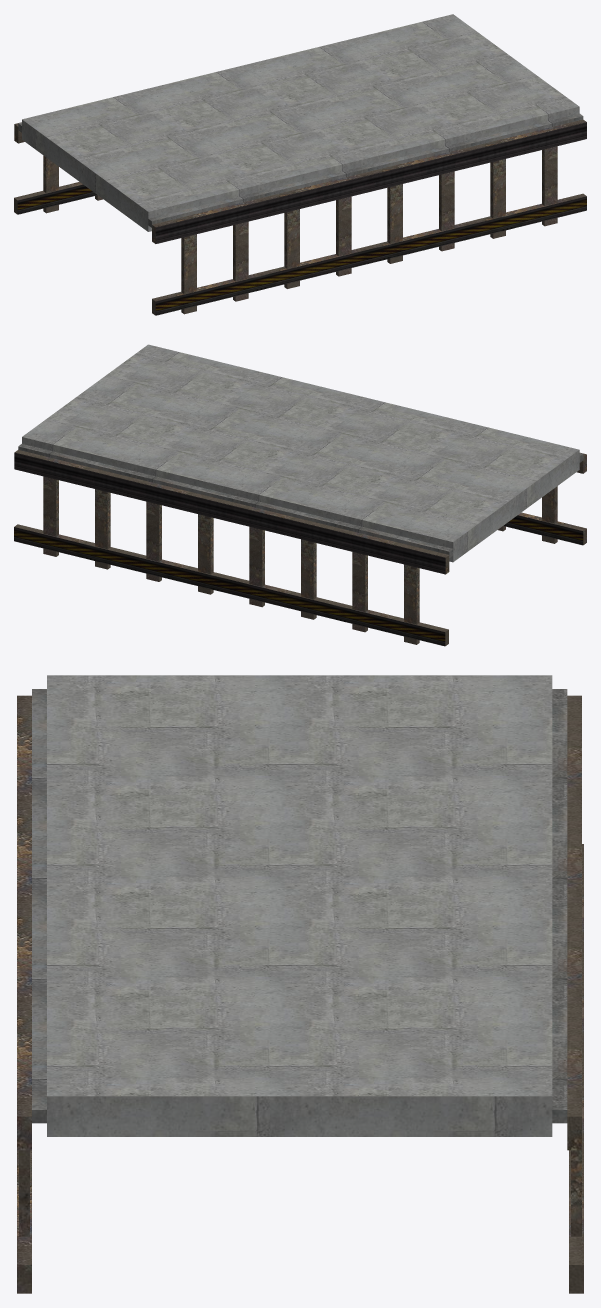
The model's file is bridge7_ext.fbx.
3 renders of one model, top to bottom at view 1: azimuth 30°, elevation 25°; view 2: azimuth 150°, elevation 25°; view 3: azimuth 270°, elevation 25°, orthographic. The views are drawn at different scales.
Visible parts, largest first — view 1: Object; view 2: Object; view 3: Object.
Boxes of the visible parts, x1,y1,x2,y2 form: Object: [14, 14, 586, 315]; Object: [14, 344, 586, 646]; Object: [17, 675, 583, 1293].
Size of the model in its own units: 6700 by 1550 by 3812.
